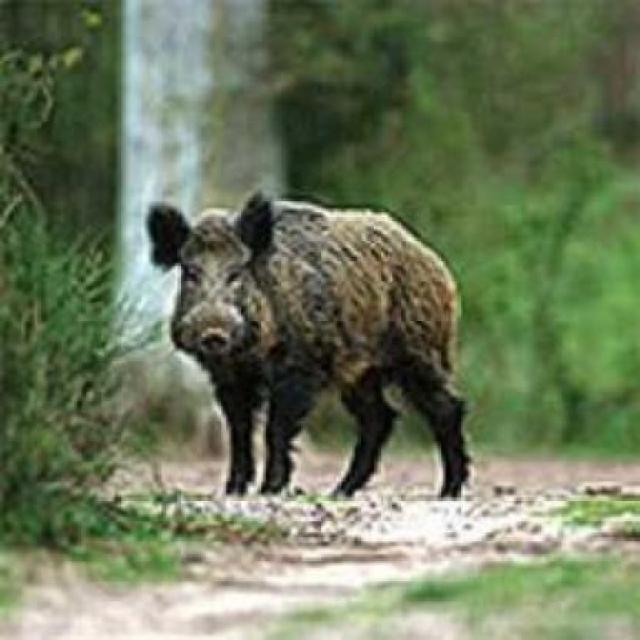Boar: (148, 145, 560, 500)
